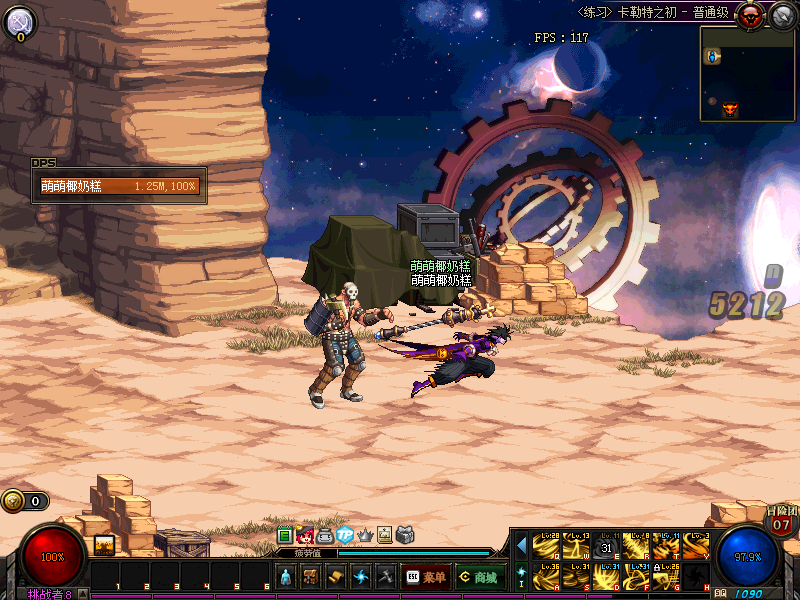BoneMan: (310, 283, 363, 400)
StormRider: (405, 325, 511, 384)
